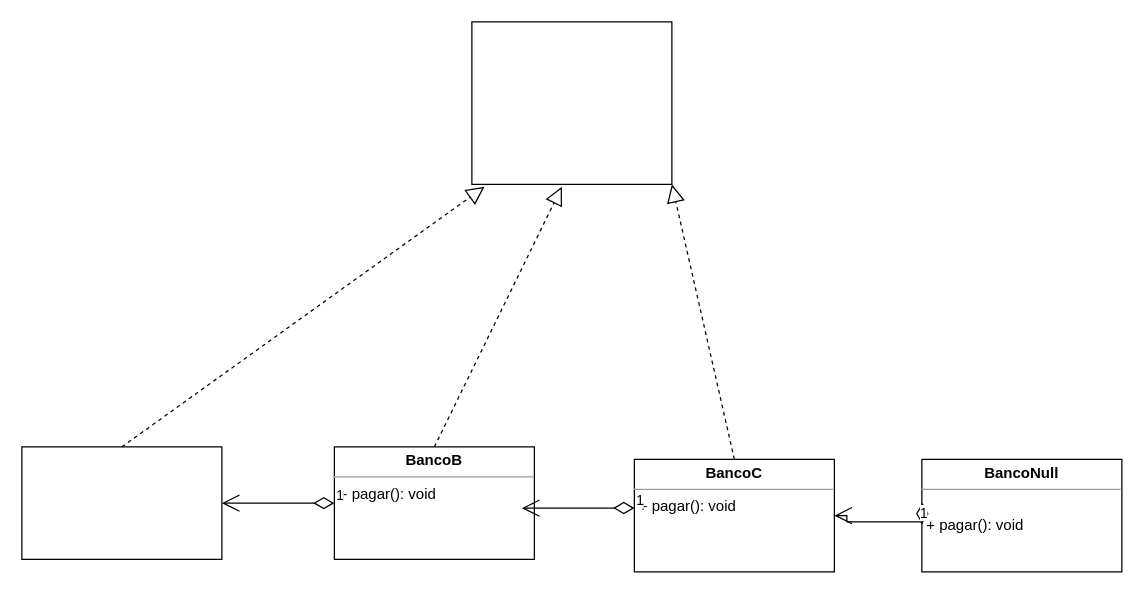
The diagram is 1144 pixels wide and 594 high, and some of its shapes have lost their labels. Here are the shapes that lost their labels. From the top down, the centre of each, then its label:
At point 571,102: "Banco + banco: Banco - codigo: int + pagar(): void + setBanco(): Cargo".
At point 121,502: "BancoA + pagar(): void".
